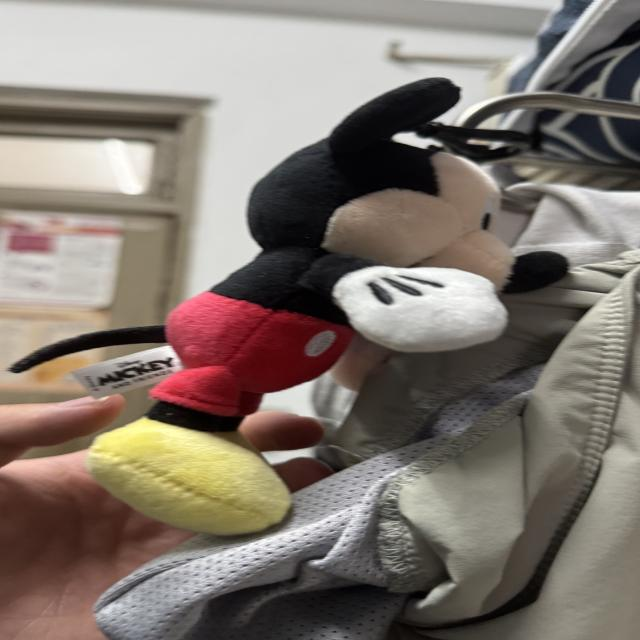mickey: (12, 79, 566, 534)
